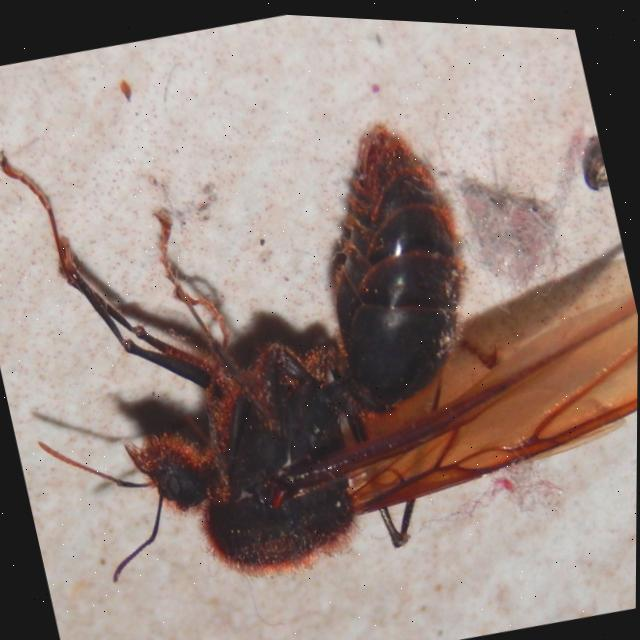Alive-Male-Alate: (0, 16, 640, 634)
